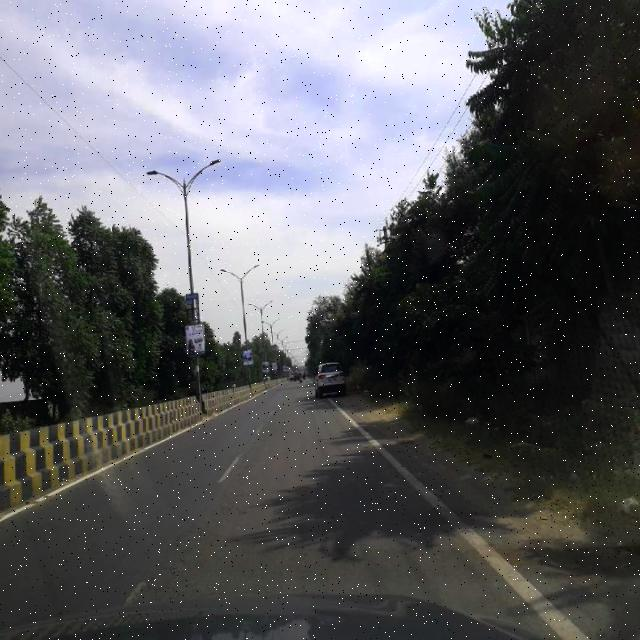D20: (130, 484, 253, 600)
